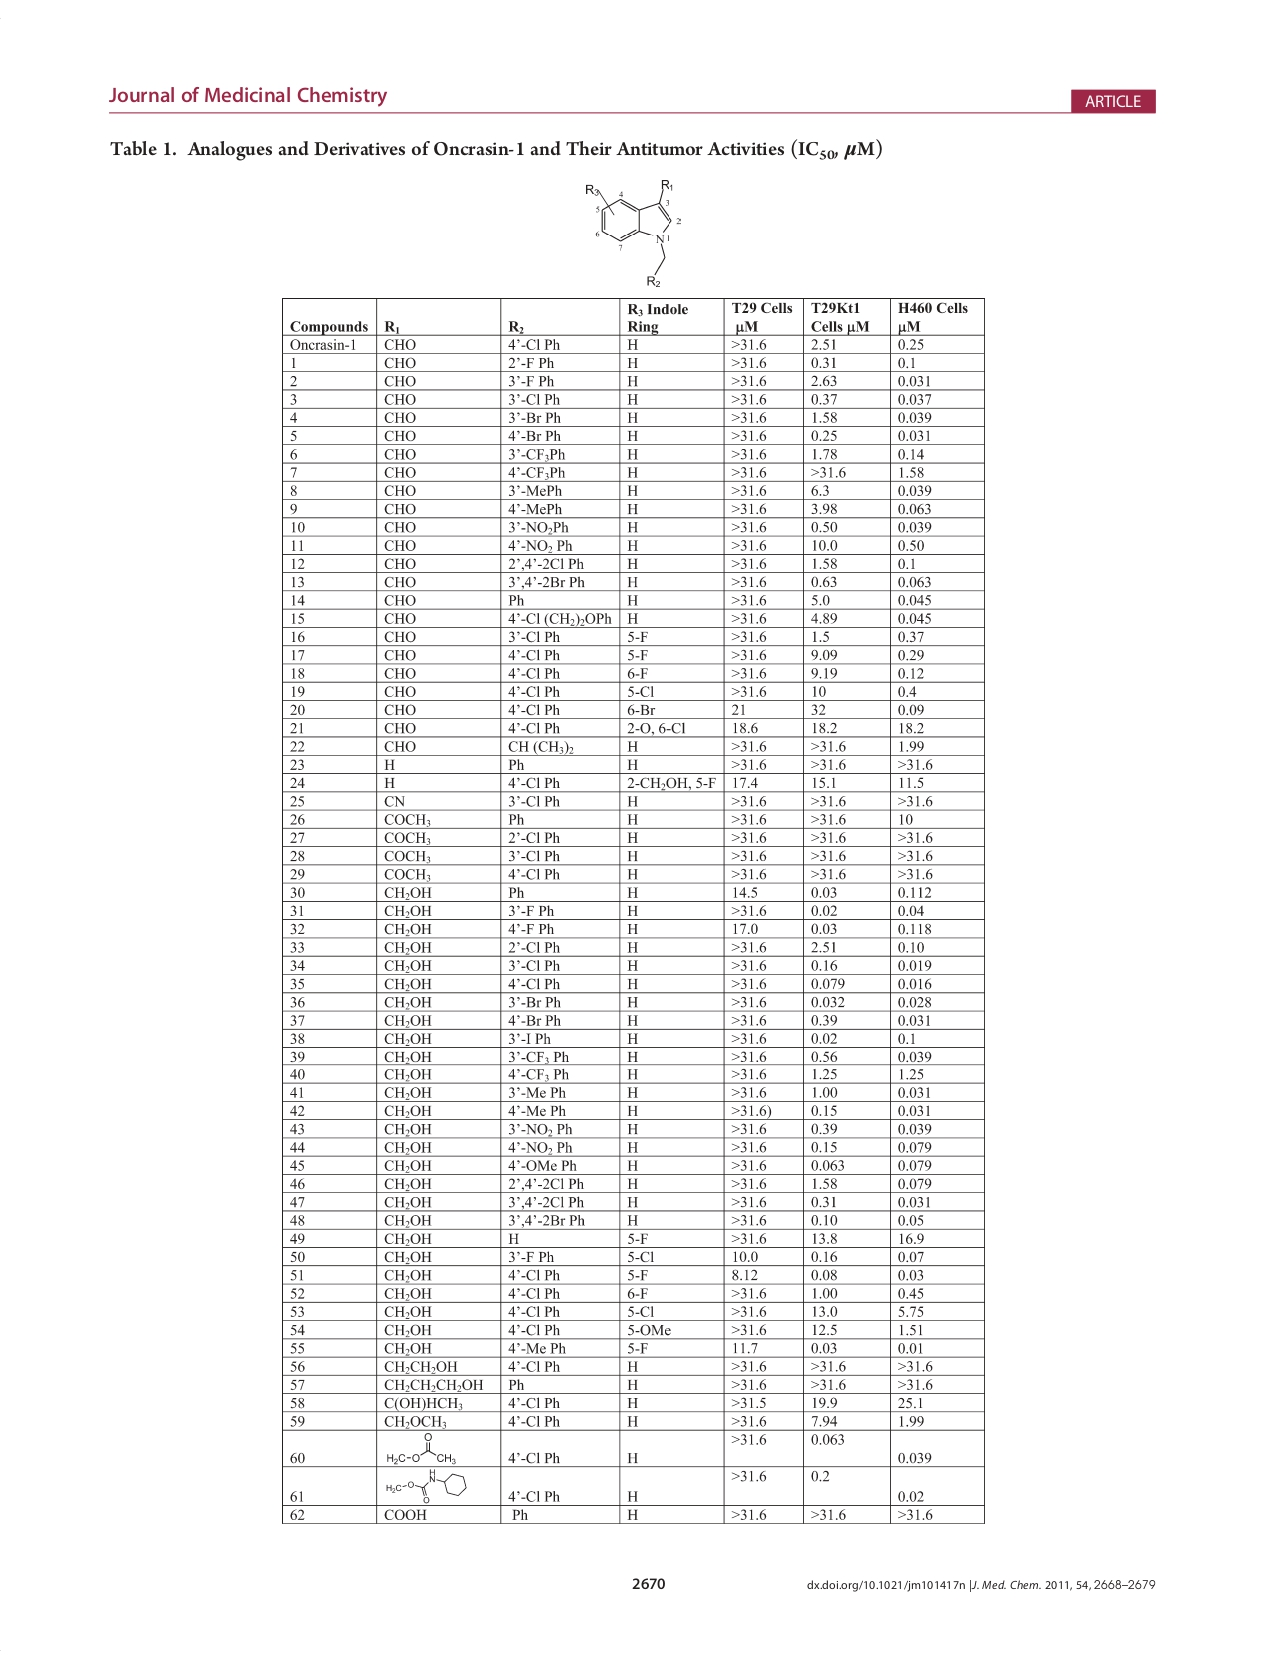exist_molecular: (582, 173, 676, 287), (386, 1468, 469, 1503), (384, 1432, 457, 1466)
